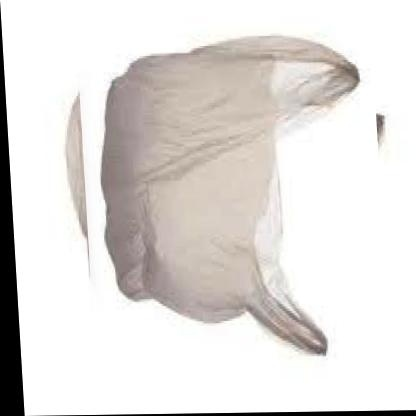trash: (101, 36, 358, 353), (102, 36, 358, 353)
